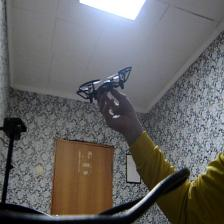drone: (74, 62, 138, 106)
